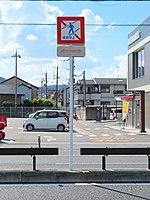Pedestrian Crossing: (54, 16, 89, 46)
